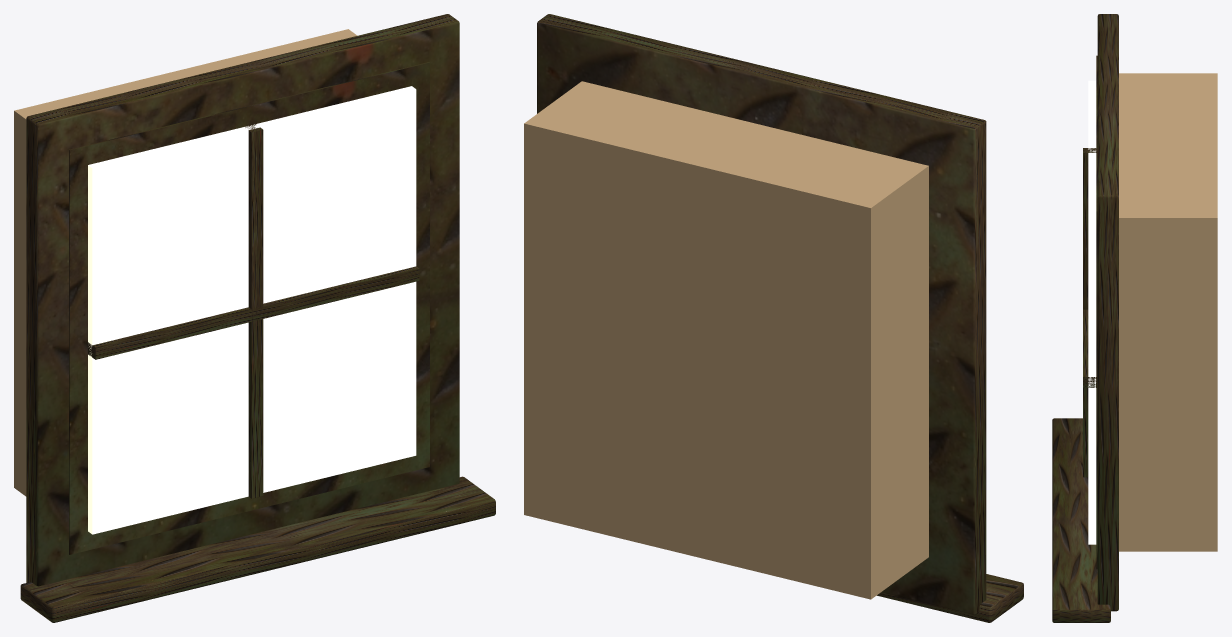
Rendered from window_lit.glb.
3 views of the same model, side by side, from view 1: azimuth 30°, elevation 25°; view 2: azimuth 150°, elevation 25°; view 3: azimuth 270°, elevation 25° (orthographic). The views are drawn at different scales.
Parts seen in each view (by area): view 1: glass, outer, inner, sill, room, mullV, mullH; view 2: room, outer, sill; view 3: room, outer, sill, glass, mullV, inner, mullH.
Part boxes in pixels (bbox=[...]): glass: bbox=[88, 86, 416, 534]; outer: bbox=[26, 14, 459, 586]; inner: bbox=[69, 62, 429, 554]; sill: bbox=[20, 476, 495, 622]; room: bbox=[14, 29, 357, 496]; mullV: bbox=[245, 124, 263, 498]; mullH: bbox=[88, 266, 419, 359]; room: bbox=[524, 81, 928, 599]; outer: bbox=[537, 14, 986, 615]; sill: bbox=[877, 574, 1023, 622]; room: bbox=[1119, 73, 1217, 551]; outer: bbox=[1097, 14, 1118, 611]; sill: bbox=[1052, 418, 1110, 622]; glass: bbox=[1088, 80, 1096, 544]; mullV: bbox=[1083, 148, 1096, 477]; inner: bbox=[1096, 55, 1097, 569]; mullH: bbox=[1083, 309, 1096, 387].
Bounding box in the file's own units: 1.7 × 1.75 × 0.62.
Materials: 3 (1 with a texture image).
